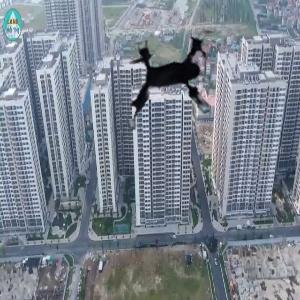drone: (106, 14, 250, 158)
